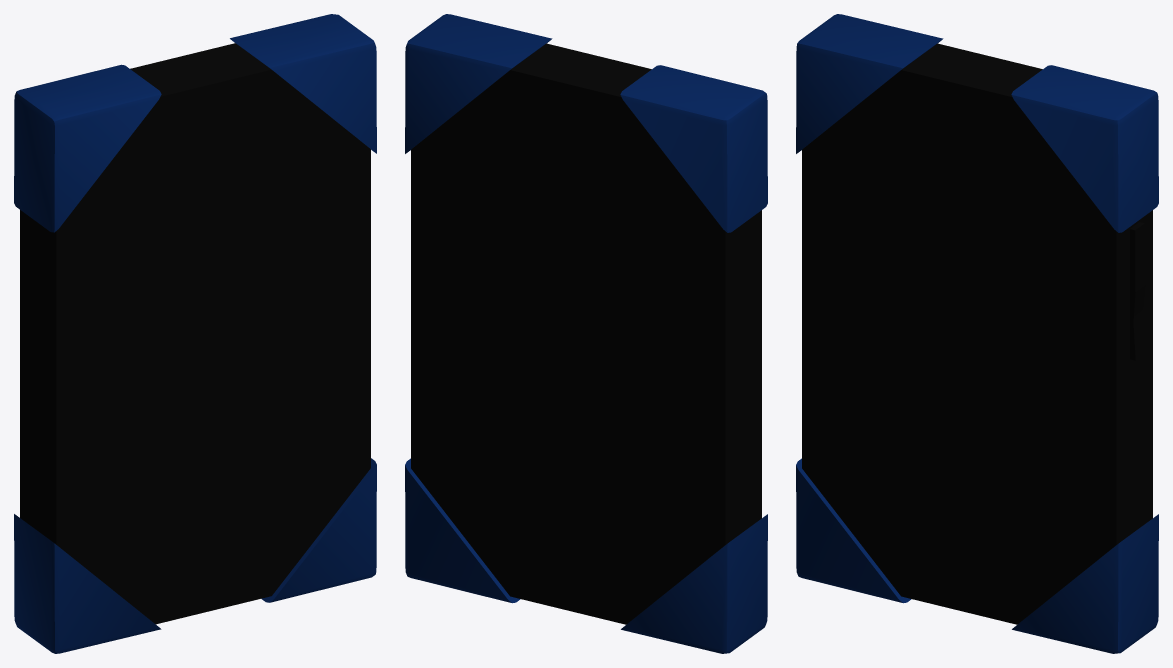
File: Phone.FBX
3 renders of one model, left to right at view 1: azimuth 30°, elevation 25°; view 2: azimuth 150°, elevation 25°; view 3: azimuth 330°, elevation 25°, orthographic.
Parts seen in each view (by area): view 1: Box001; view 2: Box001; view 3: Box001.
Boxes of the visible parts, x1,y1,x2,y2 form: Box001: (14, 14, 376, 653); Box001: (405, 14, 767, 653); Box001: (796, 14, 1158, 653).
Size of the model in its own units: 51.77 by 11.64 by 81.64.
